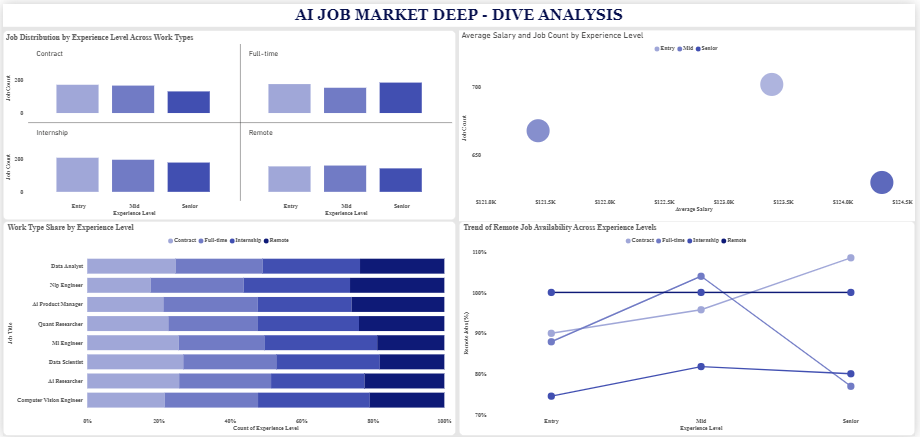

The page's visual inventory and layout, read from the dashboard file:
{"tool":"powerbi","page":{"name":"Deep-Dive","canvas":[1900,900],"ordinal":1},"visuals":[{"type":"textbox","box":[0,0,1900,47.5],"z":0},{"type":"clusteredColumnChart","title":"Job Distribution by Experience Level Across Work Types","fields":{"Category":["ai_job_market.Experience Level"],"Y":["ai_job_market.Job Count"],"Rows":["ai_job_market.Work Type"]},"box":[0,54.4,943.3,394.8],"z":1000},{"type":"hundredPercentStackedBarChart","title":"Work Type Share by Experience Level","fields":{"Y":["CountNonNull(ai_job_market.Experience Level)"],"Category":["ai_job_market.Job Title"],"Series":["ai_job_market.Work Type"]},"box":[0,453.3,943.3,446.7],"z":2000},{"type":"lineChart","title":"Trend of Remote Job Availability Across Experience Levels","fields":{"Category":["ai_job_market.Experience Level"],"Y":["ai_job_market.Remote Jobs (%)"],"Series":["ai_job_market.Work Type"]},"box":[950,453.3,950,446.7],"z":3000},{"type":"scatterChart","fields":{"X":["ai_job_market.Average Salary"],"Series":["ai_job_market.Experience Level"],"Y":["ai_job_market.Job Count"]},"box":[950.3,54.4,950.3,397.2],"z":4000}]}

Visuals, with their boxes in screenshot pixels (x1, y1, x2, y2), scaled from the page's 1900x900 canvas onto the 920x437 screenshot:
textbox: 0:0:919:23
"Job Distribution by Experience Level Across Work Types" clusteredColumnChart: 0:26:457:218
"Work Type Share by Experience Level" hundredPercentStackedBarChart: 0:220:457:436
"Trend of Remote Job Availability Across Experience Levels" lineChart: 460:220:919:436
scatterChart - ai_job_market.Average Salary x ai_job_market.Experience Level: 460:26:919:219
